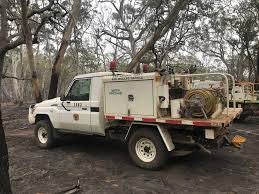Vehicle: (26, 59, 251, 167)
